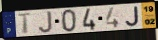0: (61, 9, 77, 33)
4: (82, 7, 97, 32), (106, 6, 120, 29)
J: (38, 10, 54, 34), (125, 5, 140, 27)
T: (17, 13, 33, 35)
